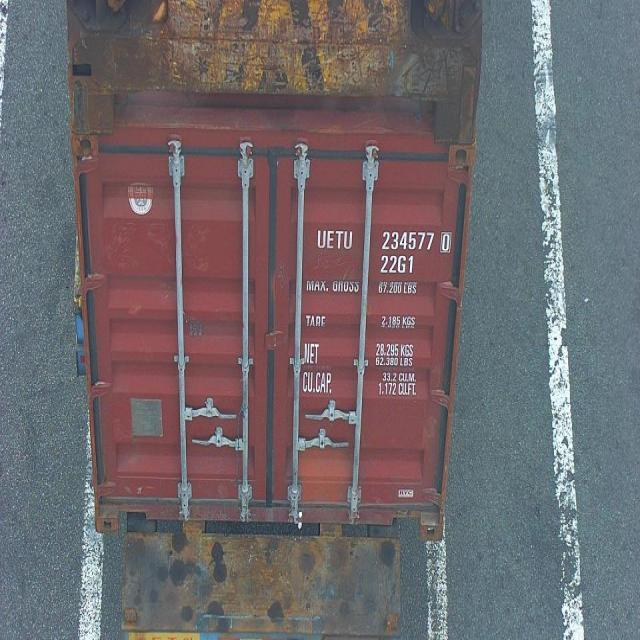ISO: (379, 255, 416, 275)
container_number: (316, 227, 454, 254)
